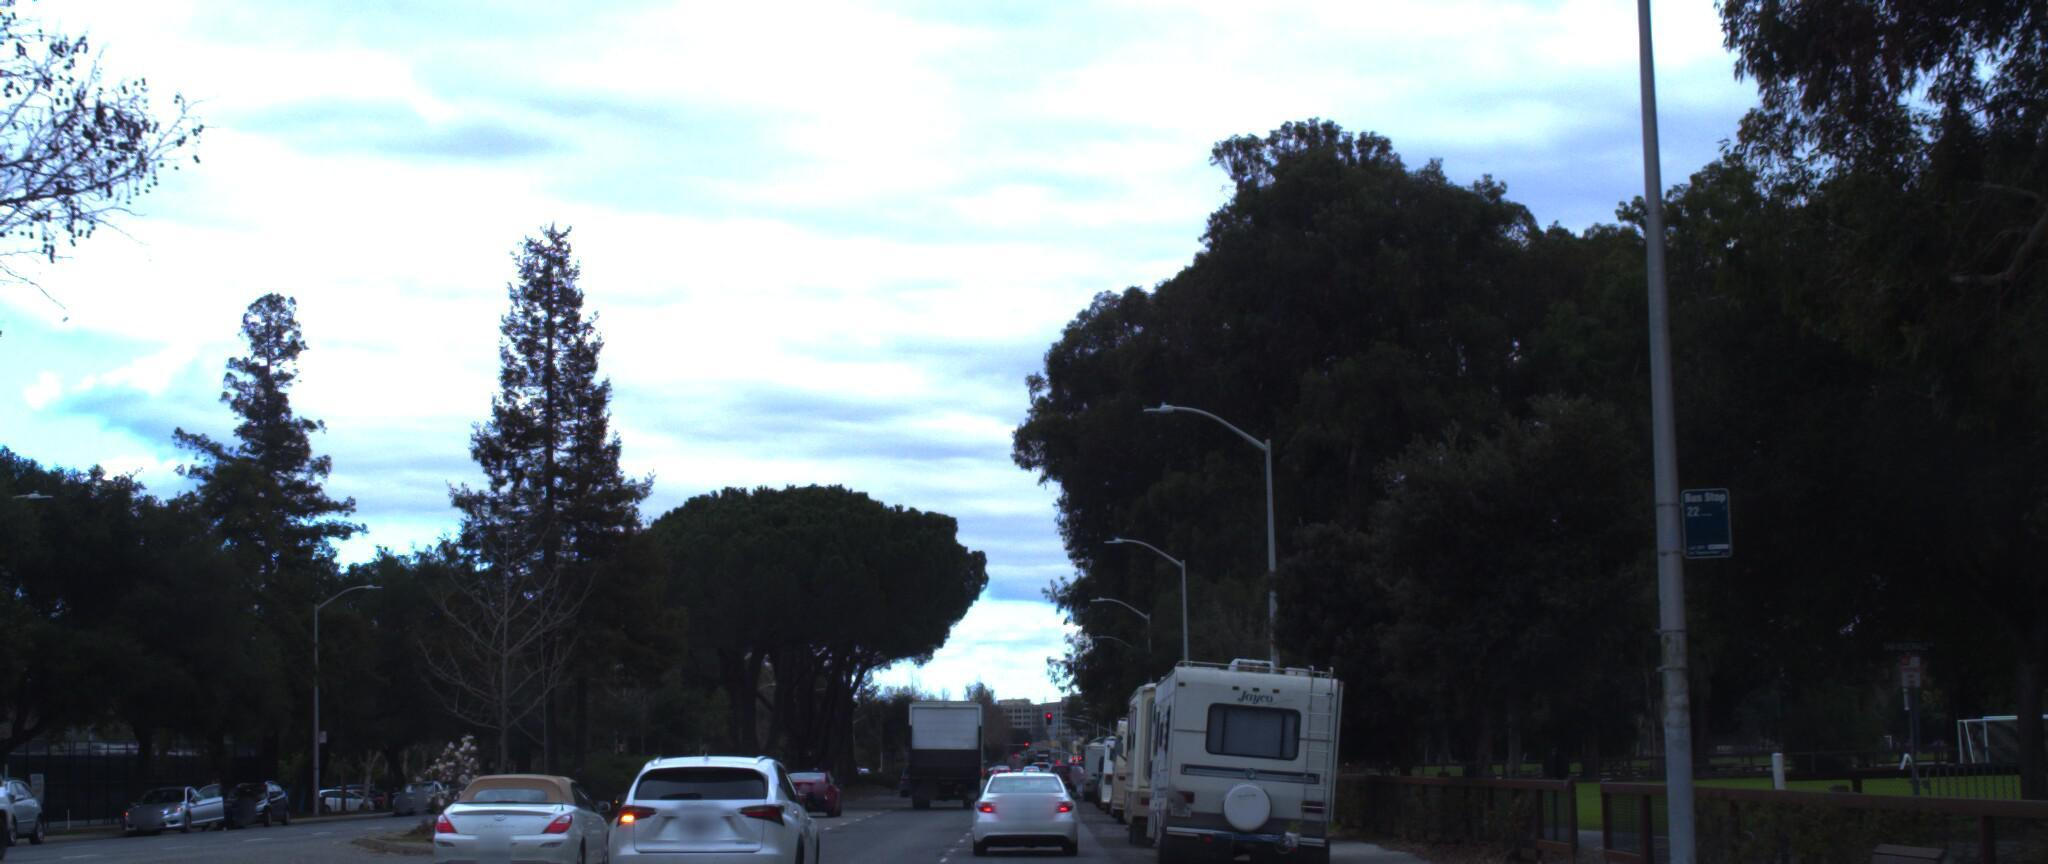car: (598, 741, 827, 864), (418, 754, 616, 864), (963, 750, 1074, 844), (0, 753, 26, 861)
other_vehicle: (1135, 637, 1352, 864), (1117, 650, 1273, 844)
